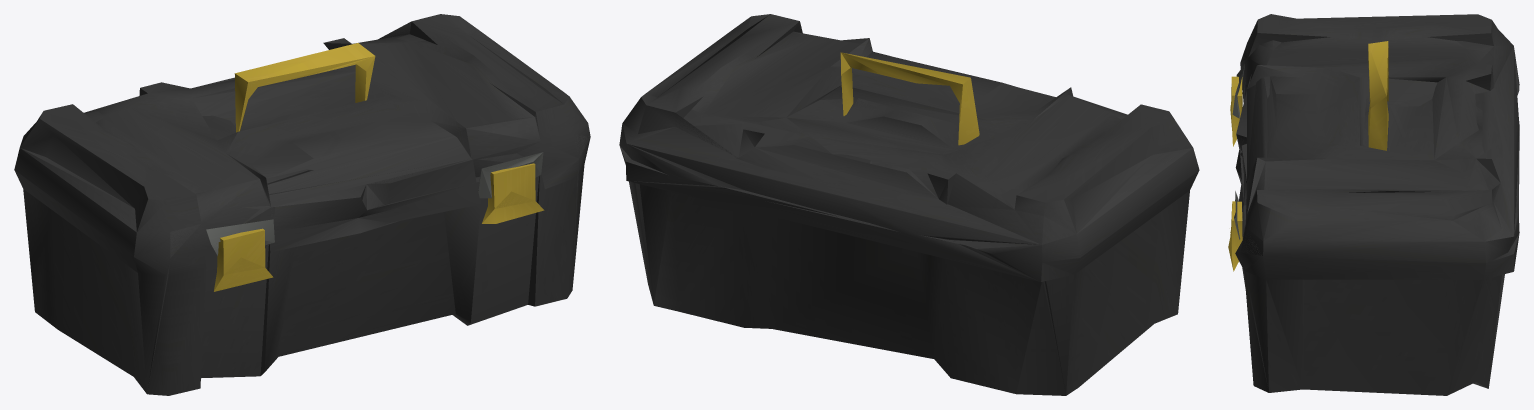
File: simready-toolbox-hardcase.lite.da285e58.glb
3 views of the same model, side by side, from view 1: azimuth 30°, elevation 25°; view 2: azimuth 150°, elevation 25°; view 3: azimuth 270°, elevation 25° (orthographic). The views are drawn at different scales.
Visible parts, largest first — view 1: model; view 2: model; view 3: model.
Part boxes in pixels (left/top/right/bottom): model: left=14, top=14, right=590, bottom=395; model: left=619, top=14, right=1199, bottom=395; model: left=1228, top=14, right=1519, bottom=395.
Bounding box in the file's own units: 0.5262 × 0.2691 × 0.3058.
Materials: 3 (3 with a texture image).
